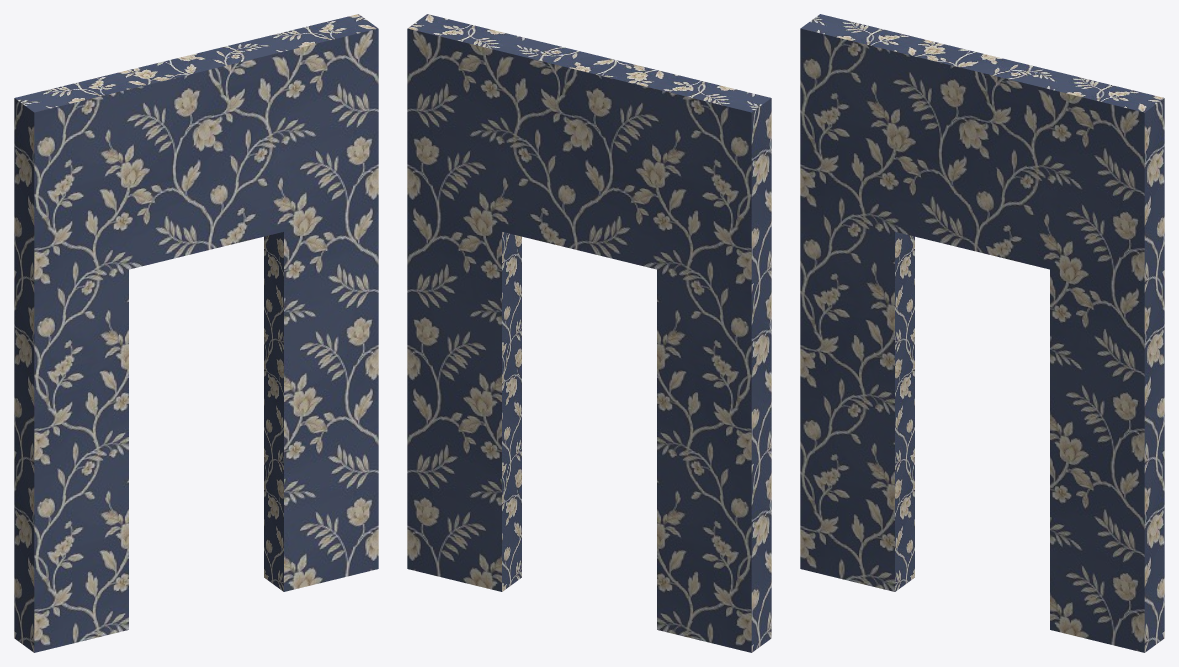
Rendered from walldoorframe200x300.fbx.
The picture shows the model from 3 angles, left to right: view 1: azimuth 30°, elevation 25°; view 2: azimuth 150°, elevation 25°; view 3: azimuth 330°, elevation 25°; orthographic projection.
Parts seen in each view (by area): view 1: pCube3; view 2: pCube3; view 3: pCube3.
Boxes of the visible parts, bbox=[...] form: pCube3: bbox=[14, 14, 378, 652]; pCube3: bbox=[407, 14, 771, 652]; pCube3: bbox=[800, 14, 1164, 652].
Size of the model in its own units: 200 by 300 by 20.
Materials: 1 (1 with a texture image).
